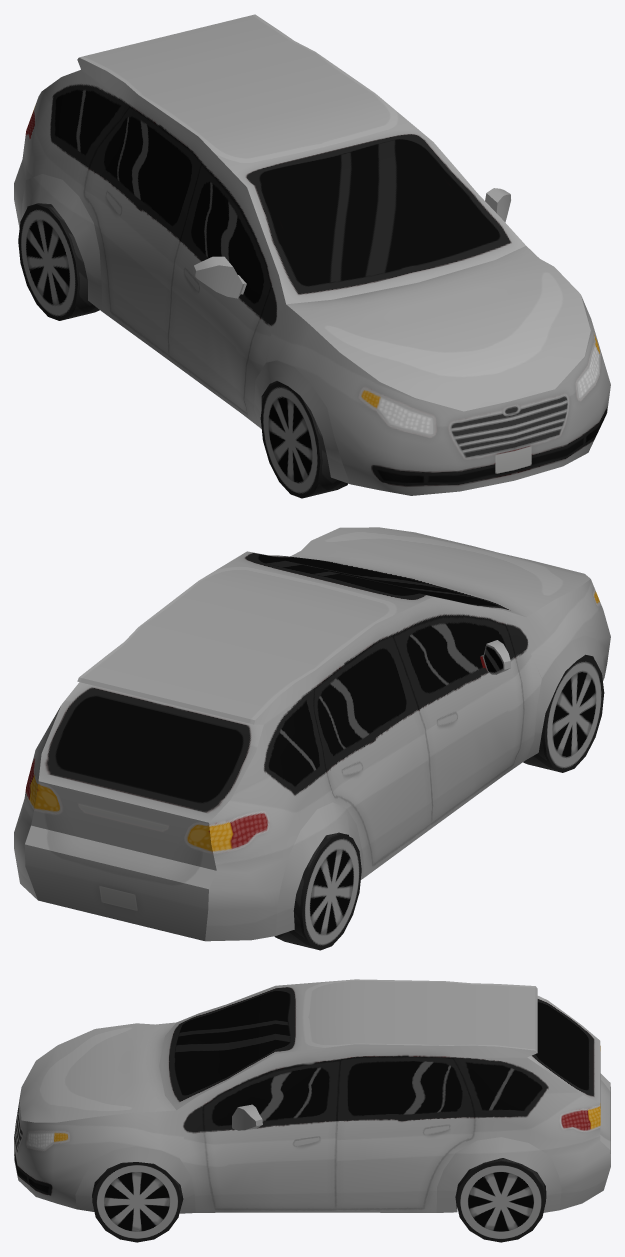
The model's file is car.fbx.
3 views of the same model, one above another, from view 1: azimuth 30°, elevation 25°; view 2: azimuth 150°, elevation 25°; view 3: azimuth 270°, elevation 25° (orthographic). The views are drawn at different scales.
Parts seen in each view (by area): view 1: Cube.027; view 2: Cube.027; view 3: Cube.027.
Boxes of the visible parts, left/top/right/bottom form: Cube.027: left=14, top=14, right=610, bottom=498; Cube.027: left=14, top=527, right=610, bottom=950; Cube.027: left=14, top=979, right=610, bottom=1242.
Size of the model in its own units: 197 by 142 by 429.
